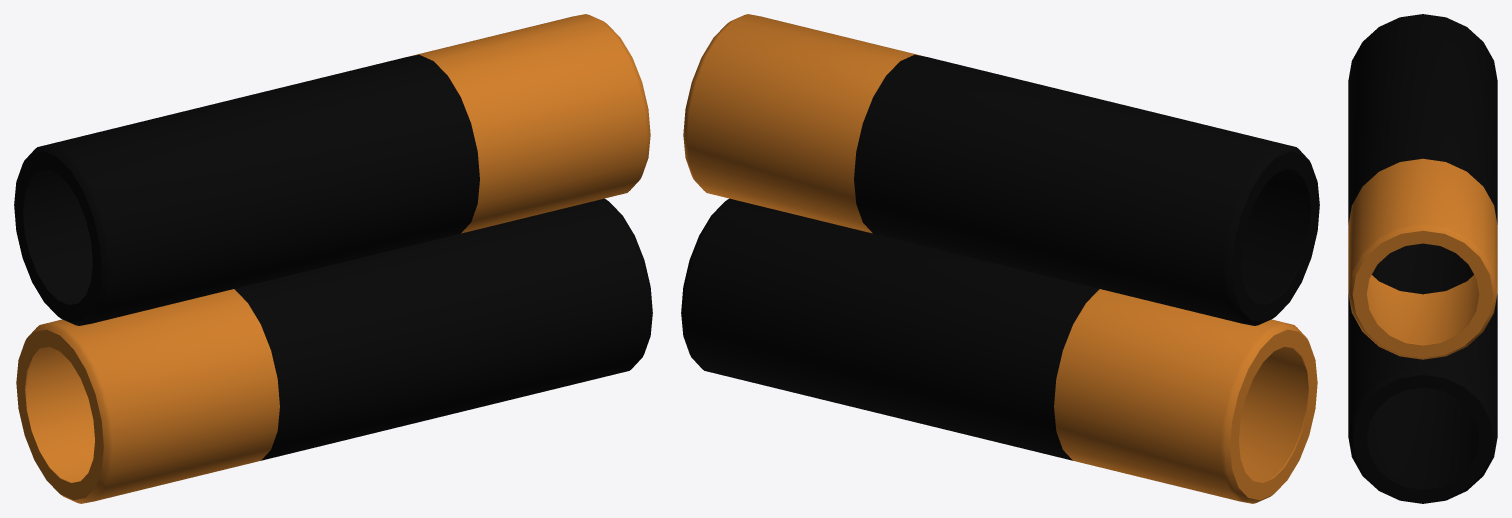
The model's file is batteries.obj.
3 renders of one model, left to right at view 1: azimuth 30°, elevation 25°; view 2: azimuth 150°, elevation 25°; view 3: azimuth 270°, elevation 25°, orthographic. The views are drawn at different scales.
Parts seen in each view (by area): view 1: batteries; view 2: batteries; view 3: batteries.
Part boxes in pixels (x1,y1,x2,y2): batteries: (14, 14, 652, 503); batteries: (681, 14, 1319, 503); batteries: (1348, 14, 1497, 503).
Size of the model in its own units: 0.0496 by 0.0298 by 0.0145.
